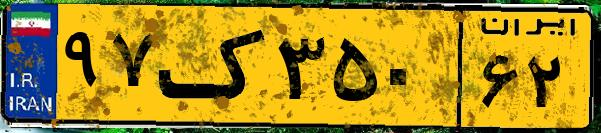0: (385, 28, 445, 110)
2: (525, 38, 570, 115)
3: (270, 28, 330, 110)
5: (330, 28, 385, 110)
6: (475, 38, 525, 113)
7: (110, 28, 158, 98)
9: (57, 26, 110, 100)
ک: (158, 12, 270, 120)
